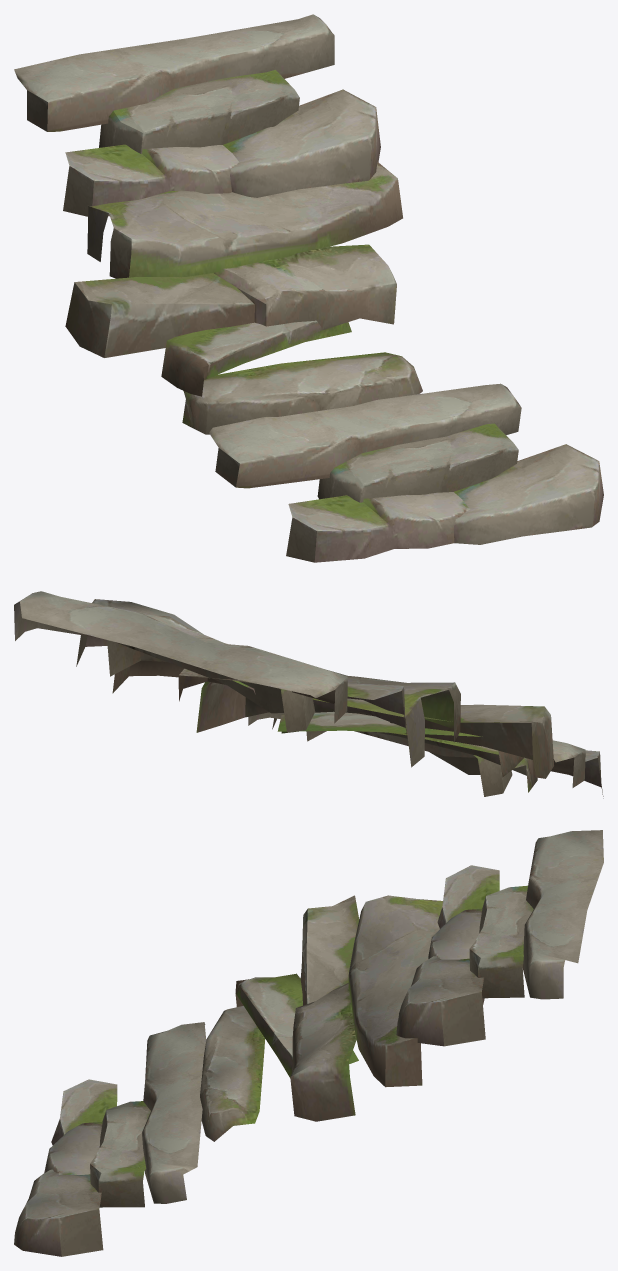
3 views of the same model, one above another, from view 1: azimuth 30°, elevation 25°; view 2: azimuth 150°, elevation 25°; view 3: azimuth 270°, elevation 25° (orthographic). The views are drawn at different scales.
Parts seen in each view (by area): view 1: Mesh_14; view 2: Mesh_14; view 3: Mesh_14.
Part boxes in pixels (x1=…): Mesh_14: x1=14, y1=14, x2=603, y2=562; Mesh_14: x1=14, y1=591, x2=603, y2=798; Mesh_14: x1=14, y1=830, x2=603, y2=1256.
Bounding box in the file's own units: 2.82 × 2.12 × 3.92.
